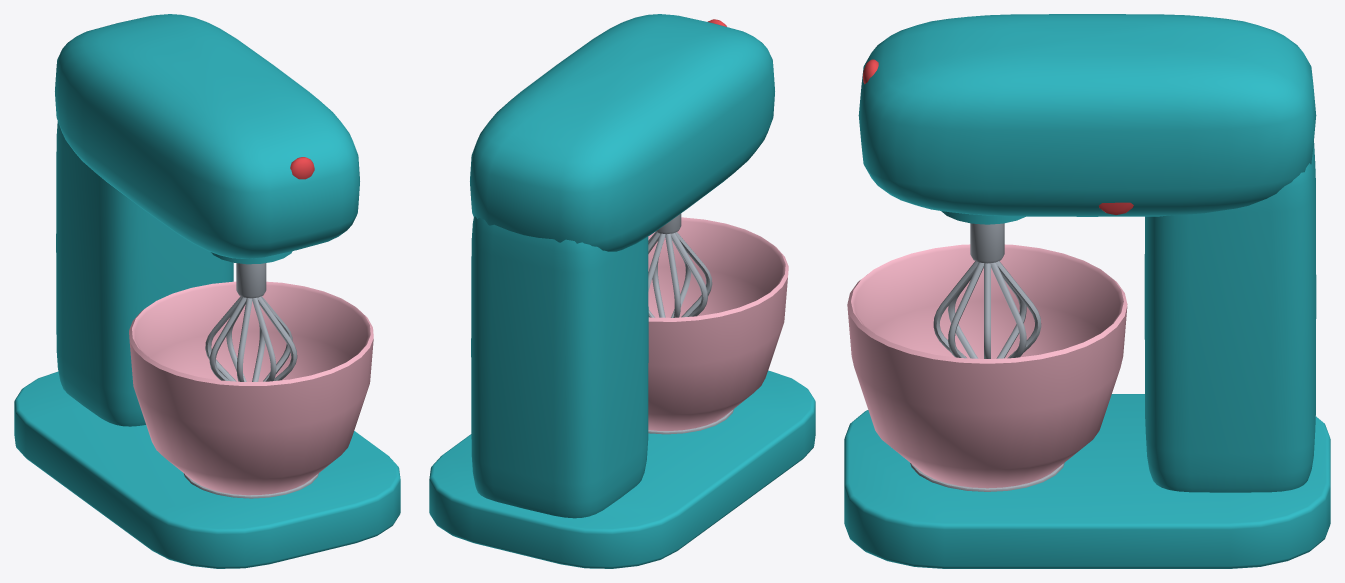
File: batedeira_planetaria_turquesa.glb
3 views of the same model, side by side, from view 1: azimuth 30°, elevation 25°; view 2: azimuth 150°, elevation 25°; view 3: azimuth 270°, elevation 25° (orthographic). The views are drawn at different scales.
Parts seen in each view (by area): view 1: batedeira_planetaria_turquesa; view 2: batedeira_planetaria_turquesa; view 3: batedeira_planetaria_turquesa.
Boxes of the visible parts, bbox=[...] form: batedeira_planetaria_turquesa: bbox=[14, 14, 400, 568]; batedeira_planetaria_turquesa: bbox=[429, 14, 815, 568]; batedeira_planetaria_turquesa: bbox=[844, 14, 1330, 568].
Bounding box in the file's own units: 0.22 × 0.36 × 0.34.
Materials: 1 (1 with a texture image).
